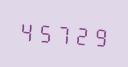five: (36, 18, 53, 46)
four: (18, 16, 35, 44)
nine: (90, 21, 107, 49)
seven: (54, 19, 71, 47)
two: (72, 20, 89, 48)
